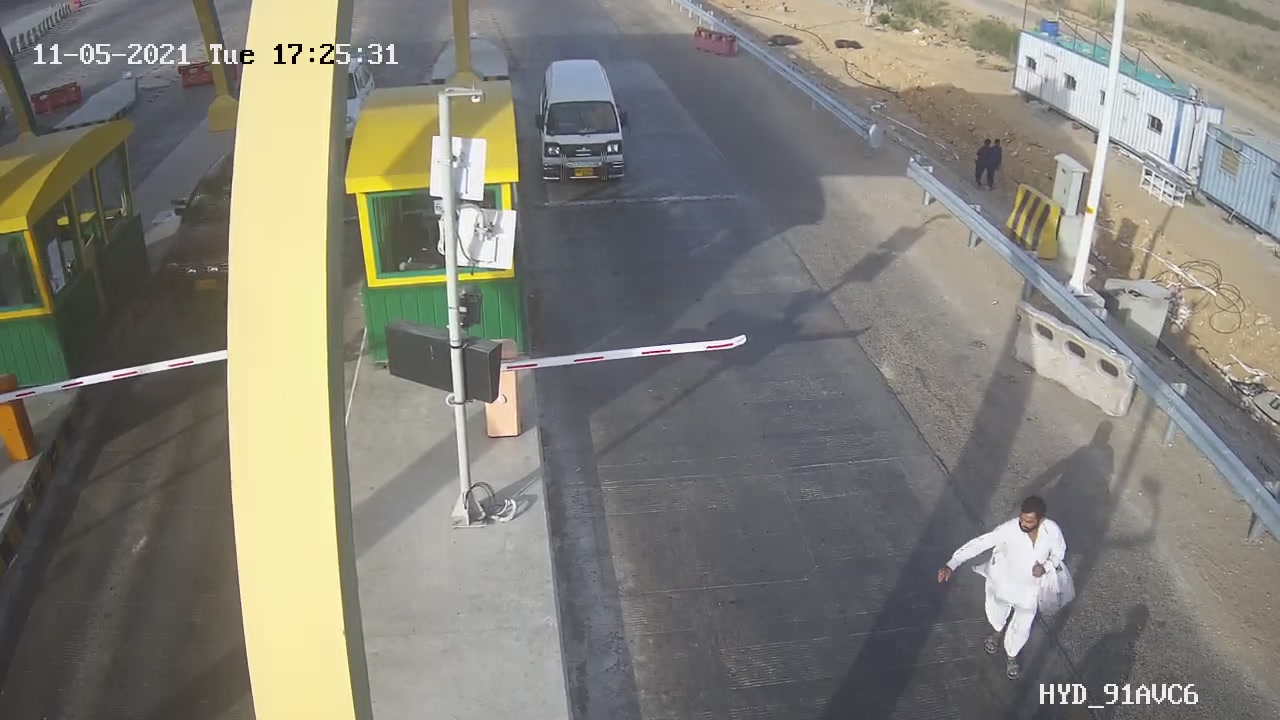F1: (517, 47, 646, 201)
